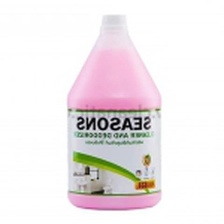cleaning_solution: (61, 11, 166, 213)
